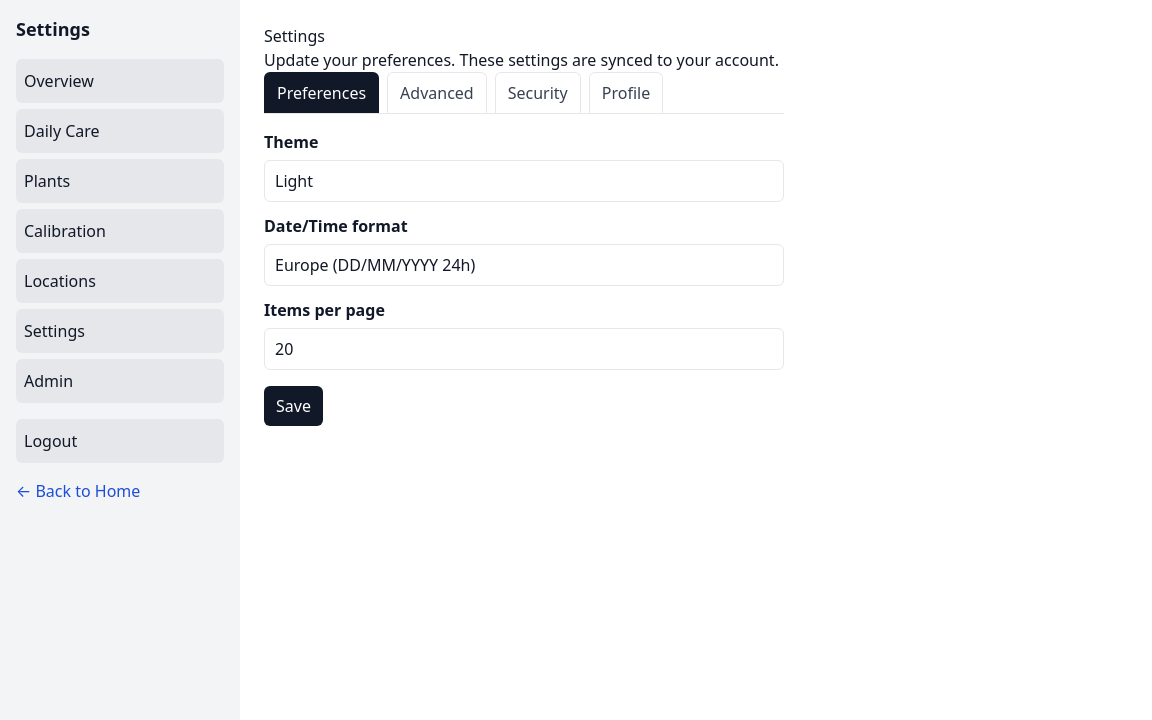
Test: pages/Settings › initializes fields from localStorage and saves updates with success message
Expected: the dropdown labelled "Date/Time format" shows "Europe (DD/MM/YYYY 24h)", [264,244,784,286]
Note: switch to profile tab to check display name
Click the tab "Profile". click: click(626, 92)
box: [589,72,663,113]
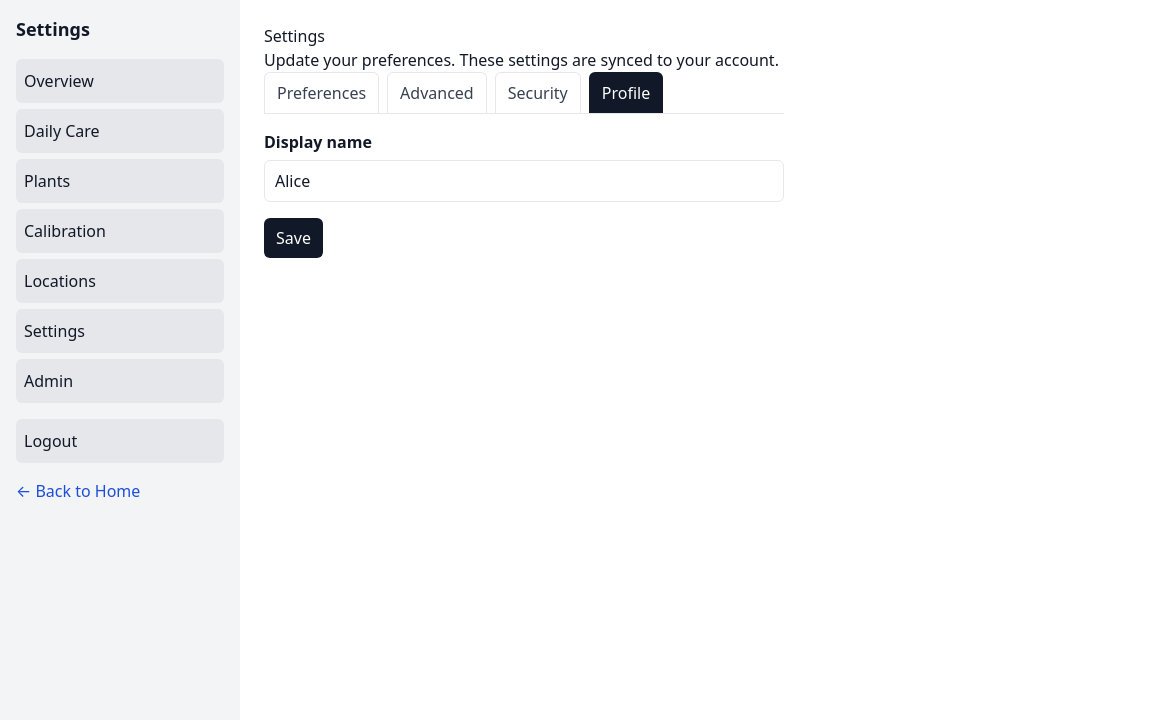
Expected: the field labelled "Display name" holds "Alice", [264,160,784,202]
Note: switch back to preferences tab to change dtFormat and save
Click the tab "Preferences". click: click(322, 92)
box: [264,72,379,113]
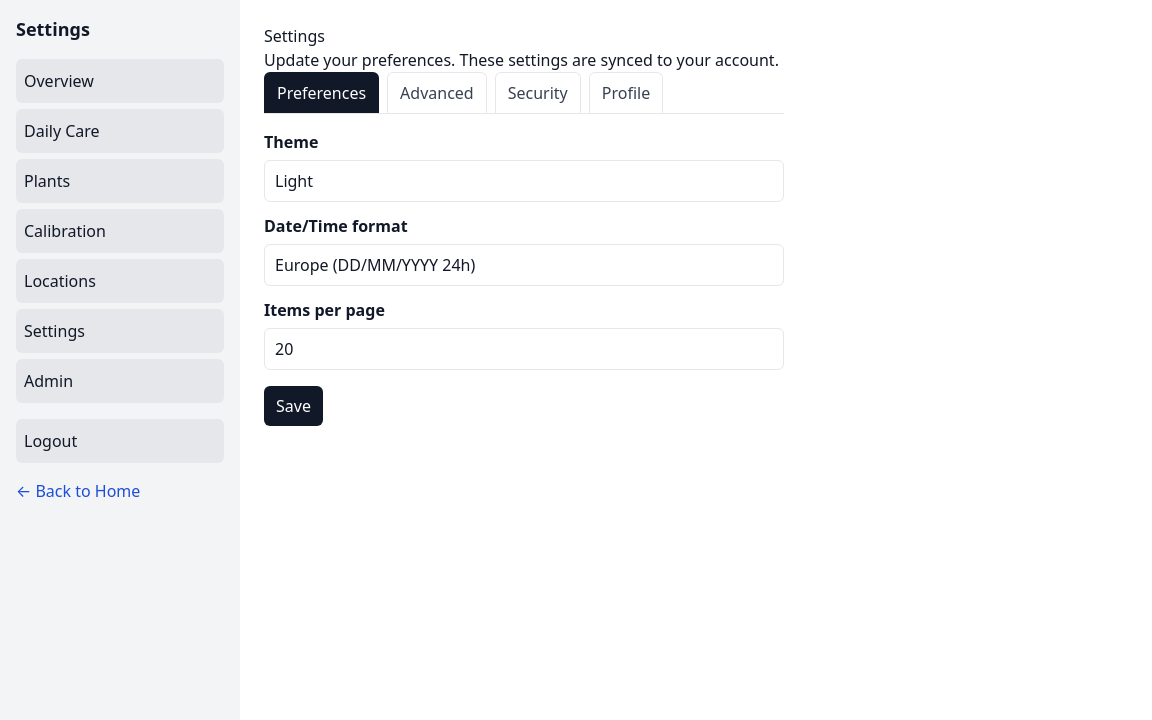
Select "USA (MM/DD/YYYY 12h)" in the dropdown labelled "Date/Time format". click: (524, 265)
box: [264,244,784,286]
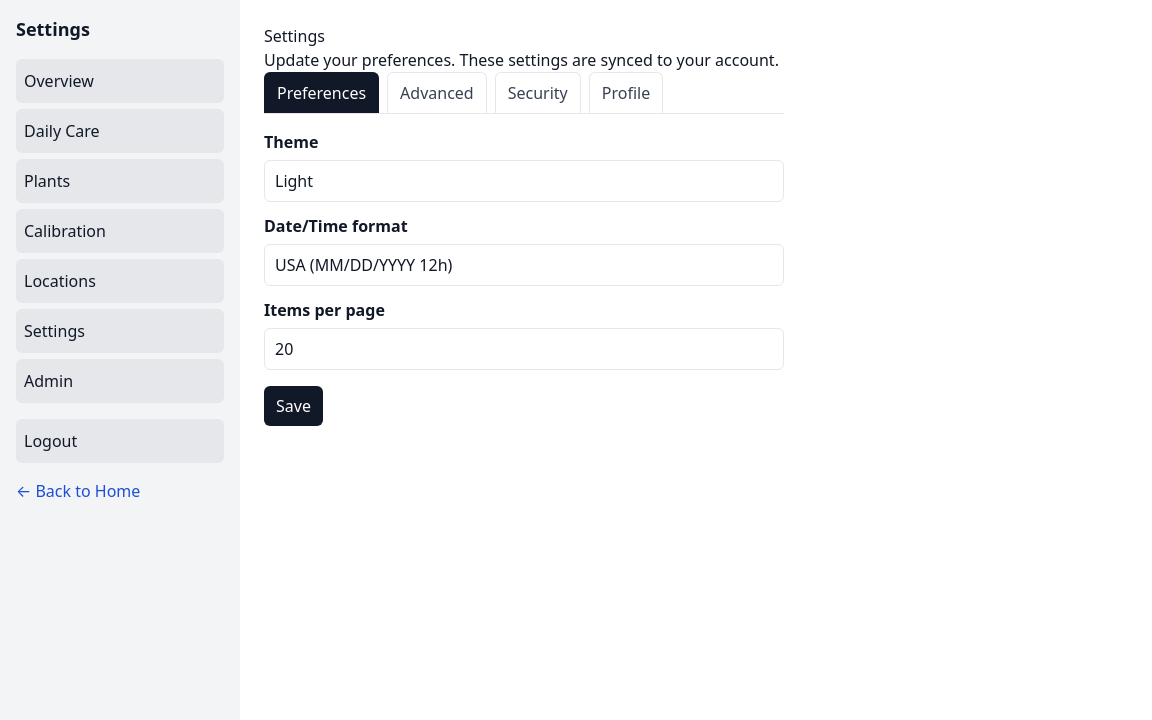
Click the button "Save". click: click(293, 406)
box: [264,386,323,426]
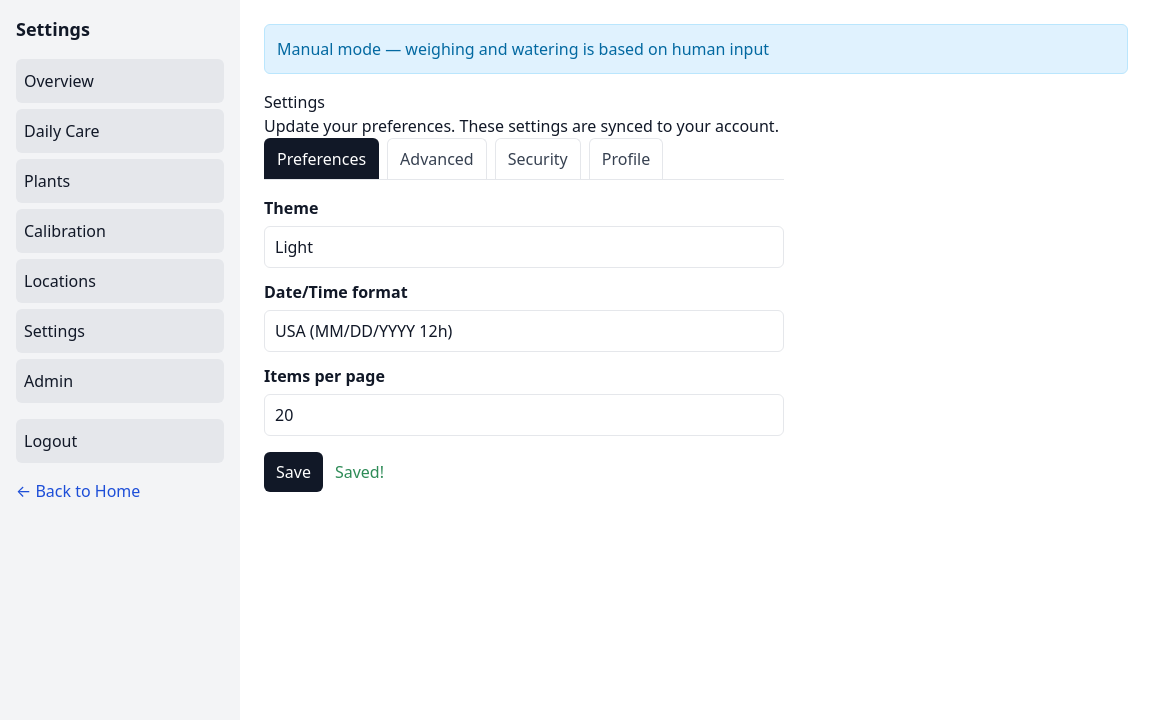
Expected: the text "Saved!" is shown, [335,461,384,483]
